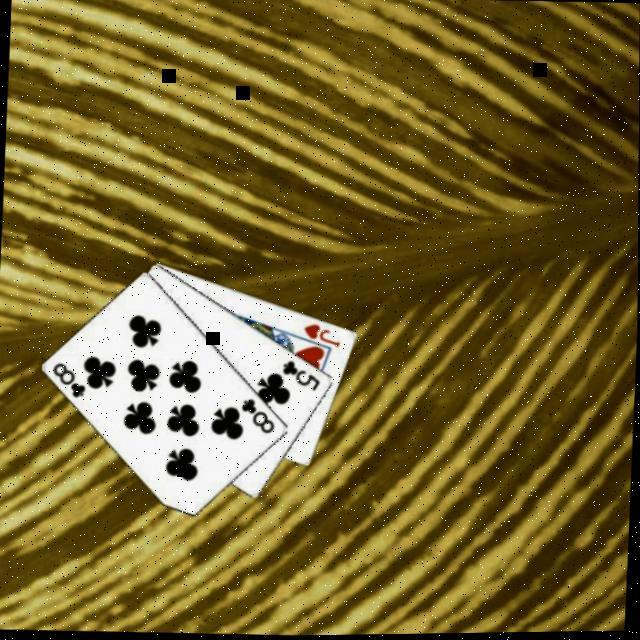5C: (279, 358, 323, 396)
8C: (236, 397, 278, 438), (49, 359, 88, 402)
JH: (300, 321, 343, 352)
